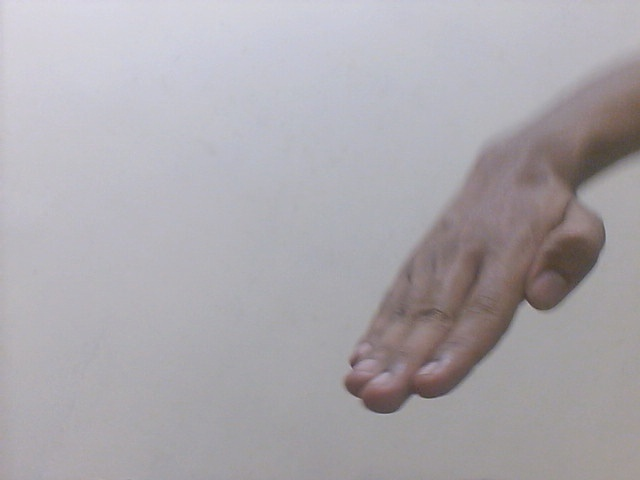hand: (333, 133, 610, 417)
